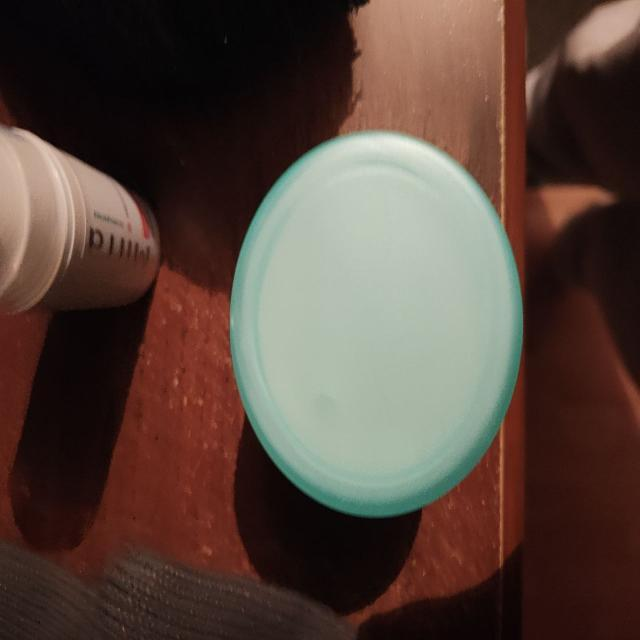Circle: (227, 130, 522, 520)
